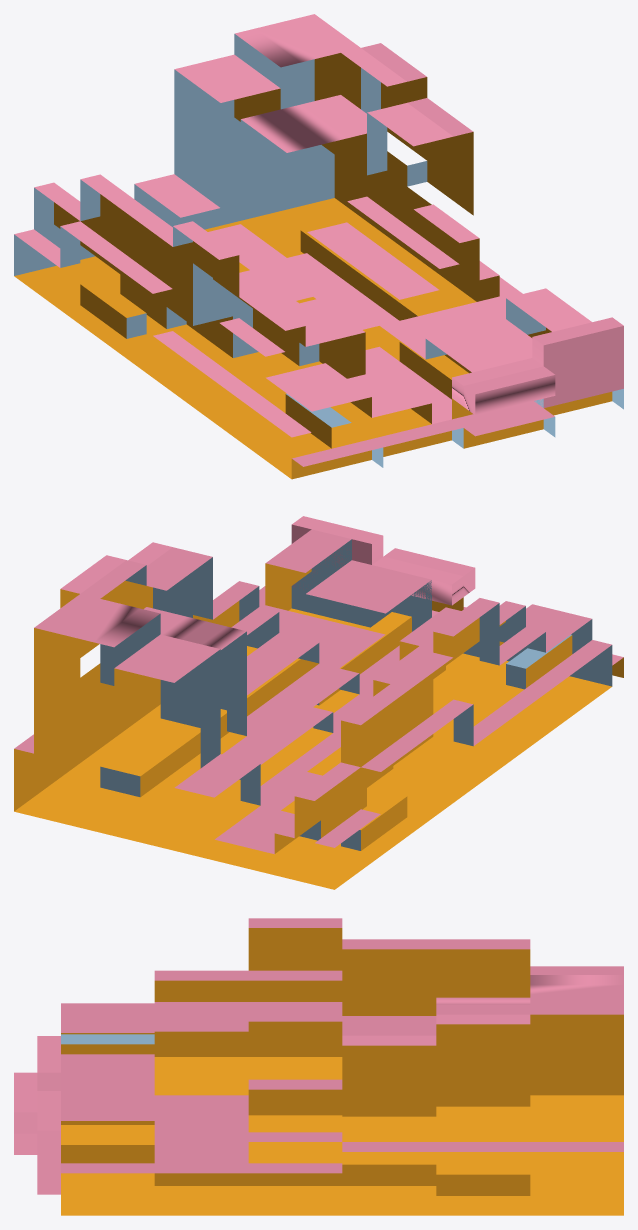
The model's file is shipyard_platform_h_cargopile_a.glb.
3 views of the same model, one above another, from view 1: azimuth 30°, elevation 25°; view 2: azimuth 150°, elevation 25°; view 3: azimuth 270°, elevation 25° (orthographic).
Size of the model in its own units: 40 by 22.5 by 65.
